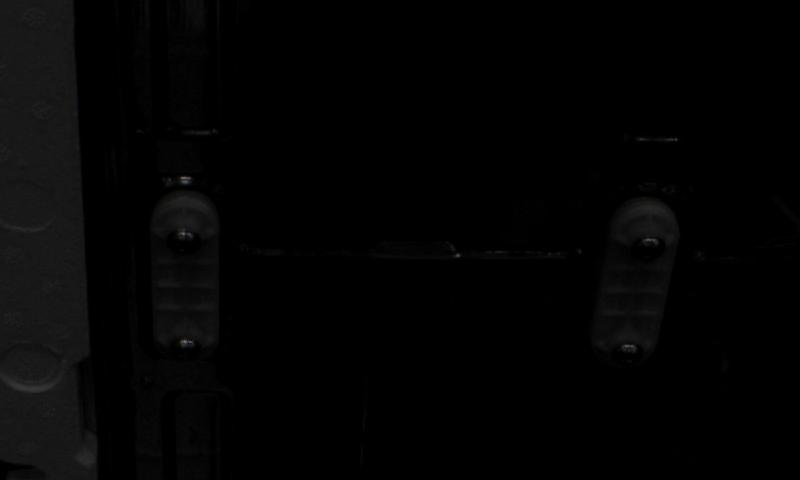vida-ok: (624, 229, 669, 268), (585, 311, 624, 351), (164, 223, 203, 262), (146, 305, 184, 340)
